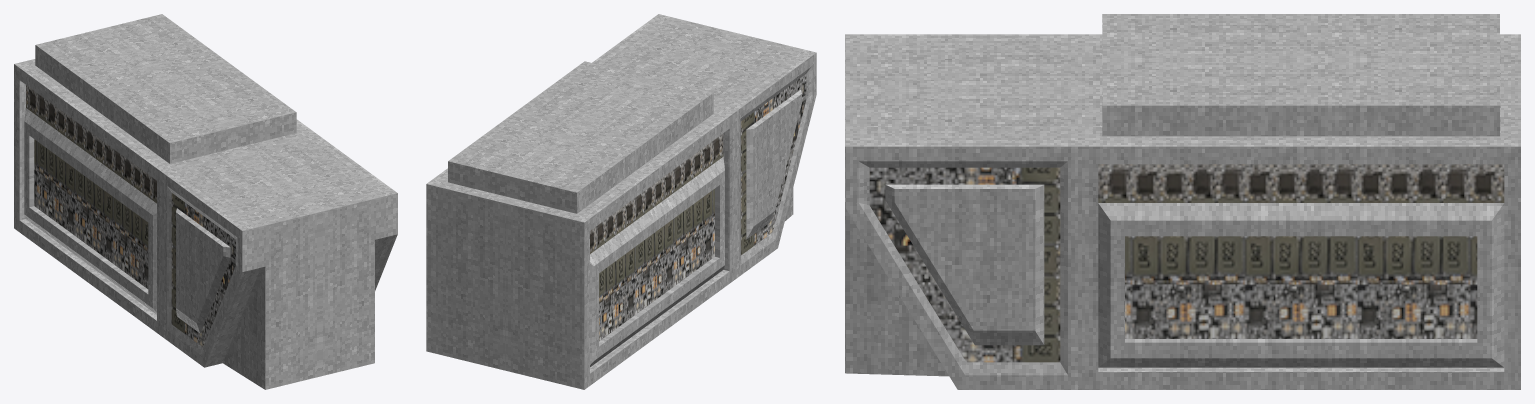
File: HeavyMachinery.fbx
3 views of the same model, side by side, from view 1: azimuth 30°, elevation 25°; view 2: azimuth 150°, elevation 25°; view 3: azimuth 270°, elevation 25° (orthographic). The views are drawn at different scales.
Visible parts, largest first — view 1: HeavyMachinery; view 2: HeavyMachinery; view 3: HeavyMachinery.
Boxes of the visible parts, x1,y1,x2,y2 form: HeavyMachinery: [14, 14, 397, 389]; HeavyMachinery: [426, 14, 816, 389]; HeavyMachinery: [845, 14, 1520, 389].
Bounding box in the file's own units: 162 × 179 × 400.
Materials: 2 (2 with a texture image).
